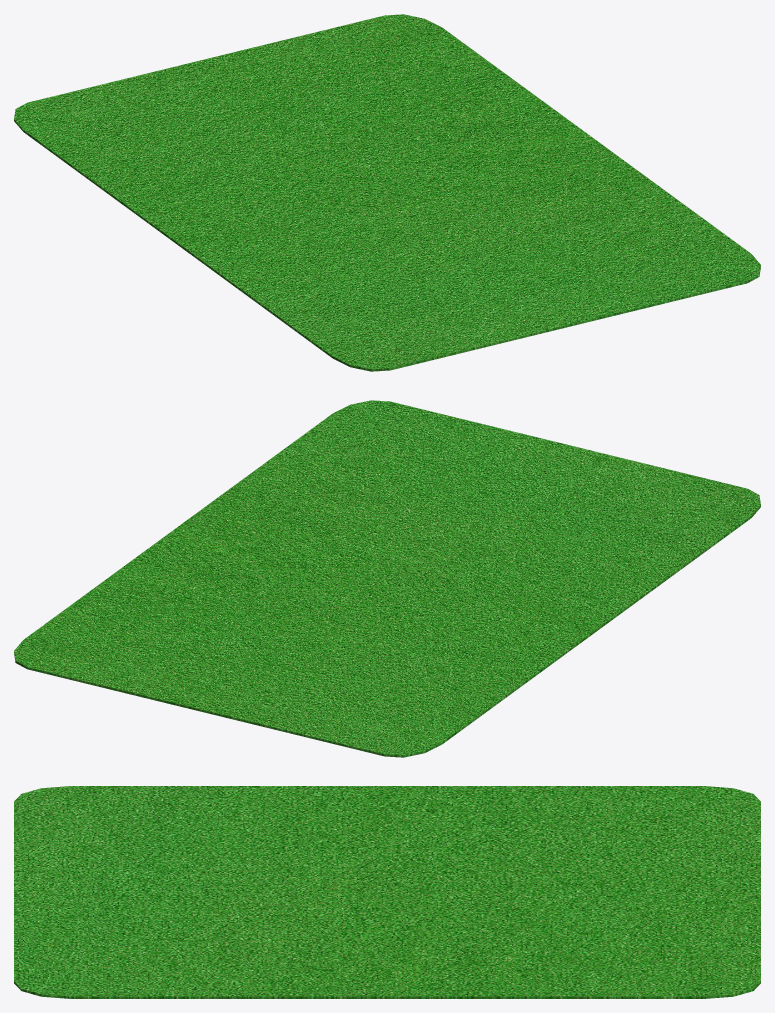
The model's file is Biljart_cloth.obj.
3 views of the same model, one above another, from view 1: azimuth 30°, elevation 25°; view 2: azimuth 150°, elevation 25°; view 3: azimuth 270°, elevation 25° (orthographic). The views are drawn at different scales.
Parts seen in each view (by area): view 1: Doek_Cube.002; view 2: Doek_Cube.002; view 3: Doek_Cube.002.
Part boxes in pixels (x1,y1,x2,y2): Doek_Cube.002: [14, 14, 760, 371]; Doek_Cube.002: [14, 400, 760, 757]; Doek_Cube.002: [14, 786, 760, 998].
Size of the model in its own units: 4 by 0.02 by 6.
Materials: 1 (1 with a texture image).
